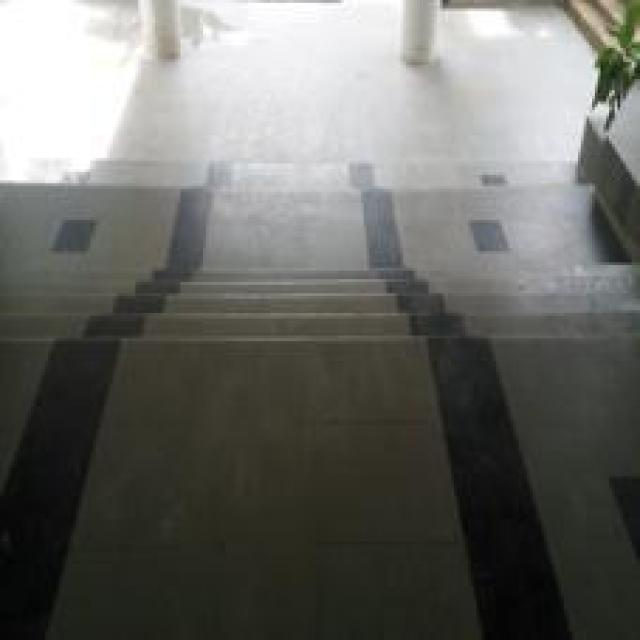downstair: (94, 232, 545, 387)
